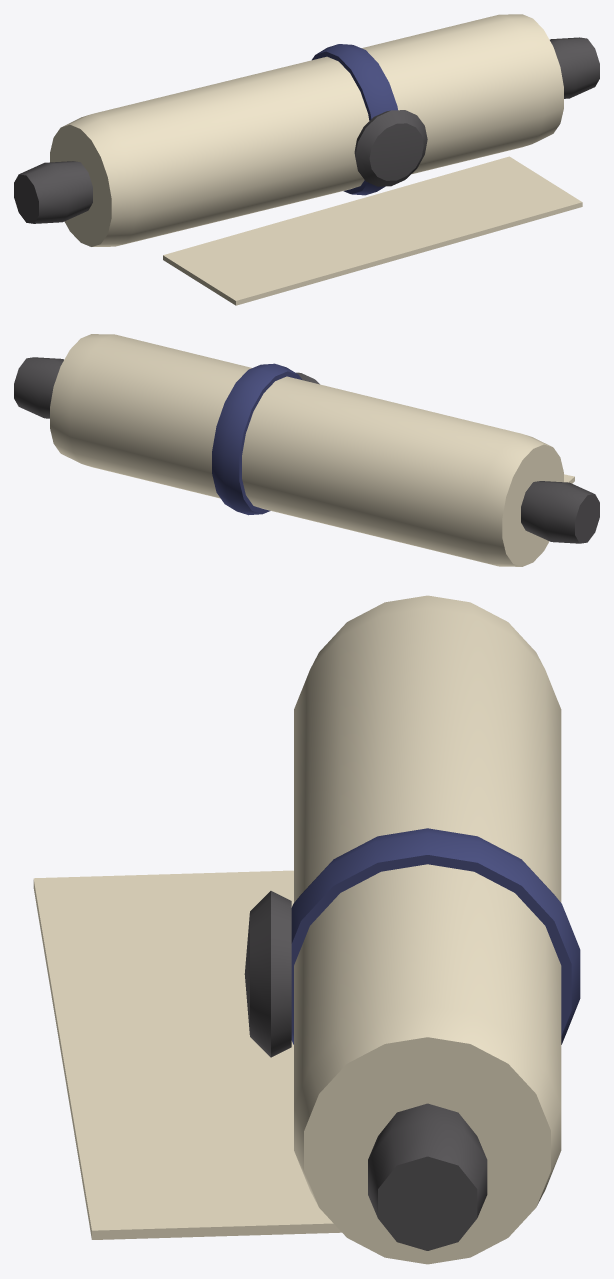
The model's file is recipe_champion_weapon.glb.
3 renders of one model, top to bottom at view 1: azimuth 30°, elevation 25°; view 2: azimuth 150°, elevation 25°; view 3: azimuth 270°, elevation 25°, orthographic. The views are drawn at different scales.
Parts seen in each view (by area): view 1: recipe_champion_weapon; view 2: recipe_champion_weapon; view 3: recipe_champion_weapon.
Part boxes in pixels (x1,y1,x2,y2): recipe_champion_weapon: (14,14,599,305); recipe_champion_weapon: (14,334,599,566); recipe_champion_weapon: (33,595,580,1264).
Bounding box in the file's own units: 0.248 × 0.0594 × 0.1046.
